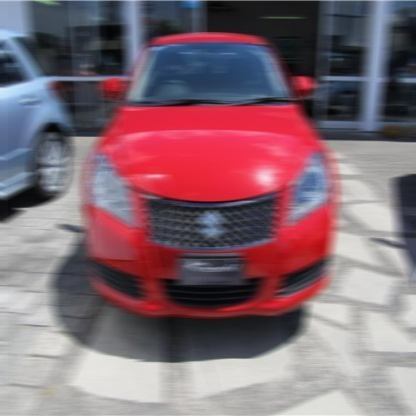Vehicle: (82, 32, 338, 322)
